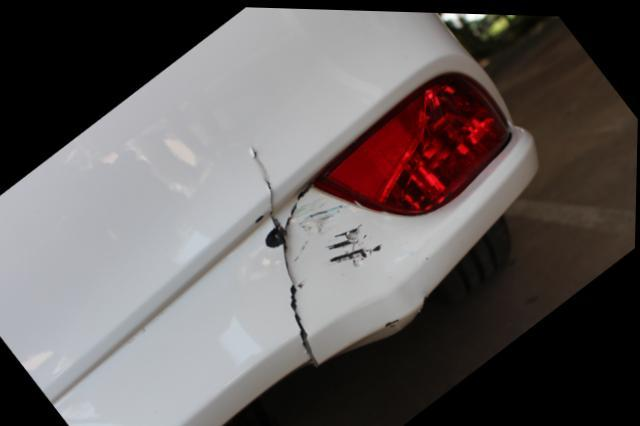crack: (249, 142, 322, 362)
scratch: (297, 193, 382, 265)
